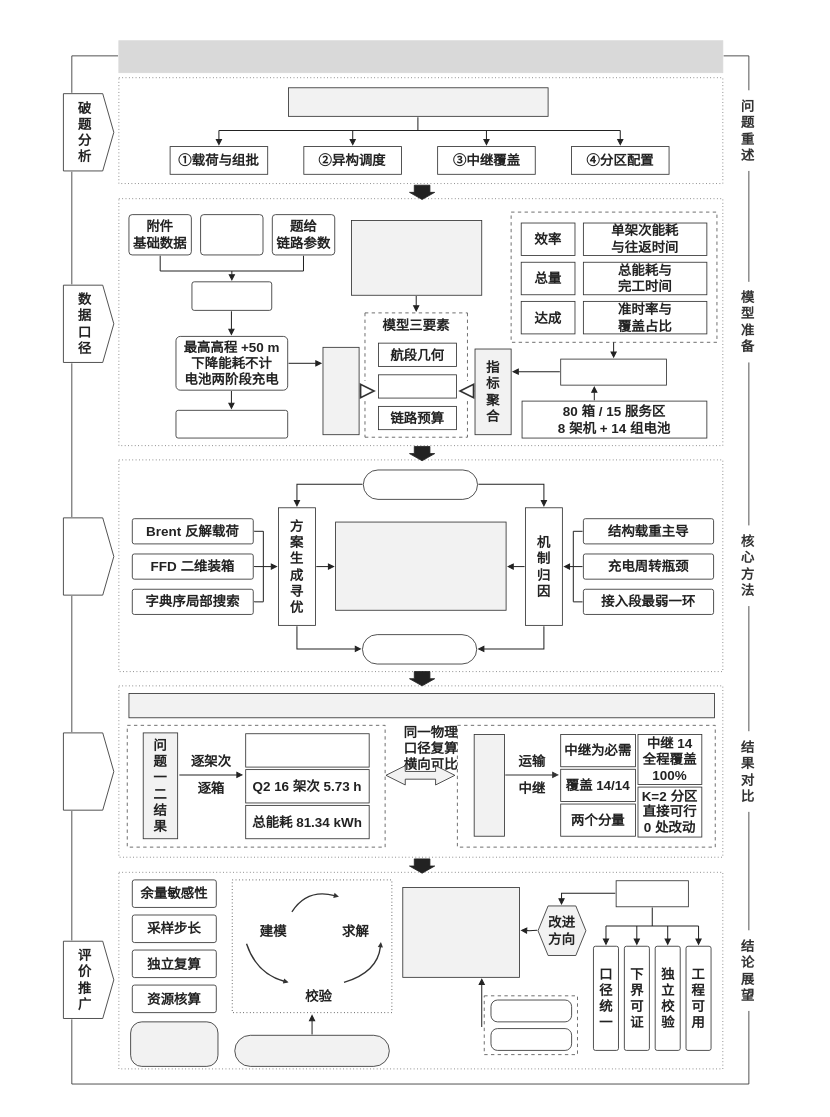
This 830x1117 diagram has some shape labels left out. Each missing label, with the box of its shape:
30 m DEM: (200, 214, 263, 255)
Q1 18 架次达下界: (245, 733, 369, 767)
①载荷反解 + 组批 ②构造—改进—调度 ③中断诊断 + 选址 ④原子单元 + 分区枚举 四问共用同一物理口径: (335, 521, 506, 610)
不可行性 定量下界: (130, 1021, 218, 1066)
全局资源视角: (362, 634, 477, 664)
公共物理与通信模型 （四问唯一实现） physics/ + comms/: (351, 220, 482, 295)
内容三：四问求解结果与统一物理口径下的横向对比: (128, 693, 714, 718)
单点往返视角: (362, 469, 478, 499)
山区洪涝灾害下无人机运输与通信协同优化：技术路线图: (118, 40, 723, 73)
应急场景无人机协同调度: (234, 1034, 389, 1066)
应急物流: (490, 999, 572, 1022)
建 模 寻 优: (63, 517, 114, 595)
数据整备: (191, 281, 272, 310)
模型检验与 灵敏度分析、 模型评价与 推广建议: (402, 887, 520, 977)
模型评价: (615, 880, 688, 907)
求 解 结 果: (63, 732, 114, 810)
物 理 口 径: (322, 346, 359, 435)
符号与口径: (175, 410, 288, 438)
能耗与时间: (378, 374, 457, 398)
运输与通信协同的四问递进优化: (288, 87, 548, 116)
逐架次汇总: (560, 358, 667, 385)
通信中继: (490, 1028, 572, 1050)
问 题 三 四 结 果: (473, 734, 504, 836)
